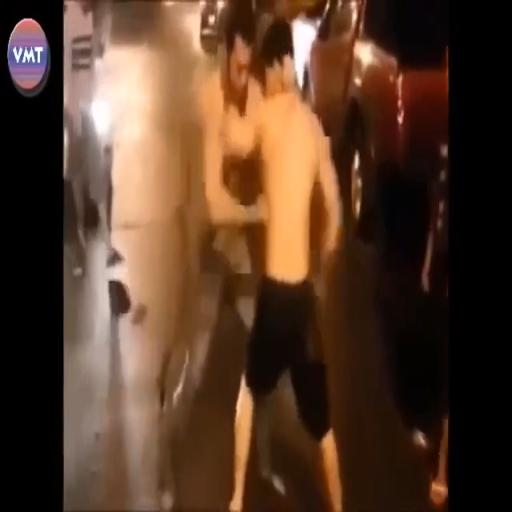violencia: (151, 0, 354, 512)
